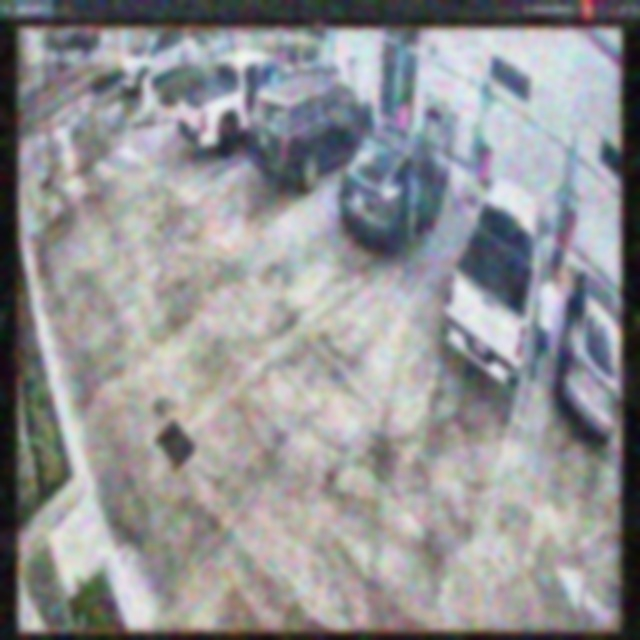Car: (442, 171, 545, 387), (248, 72, 372, 190), (341, 125, 447, 245), (178, 52, 293, 150)
